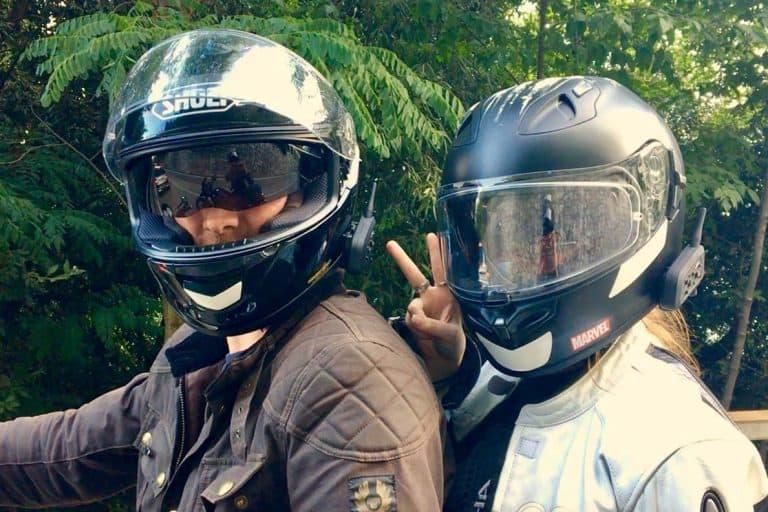Helmet: (104, 29, 371, 334), (438, 77, 703, 374)
